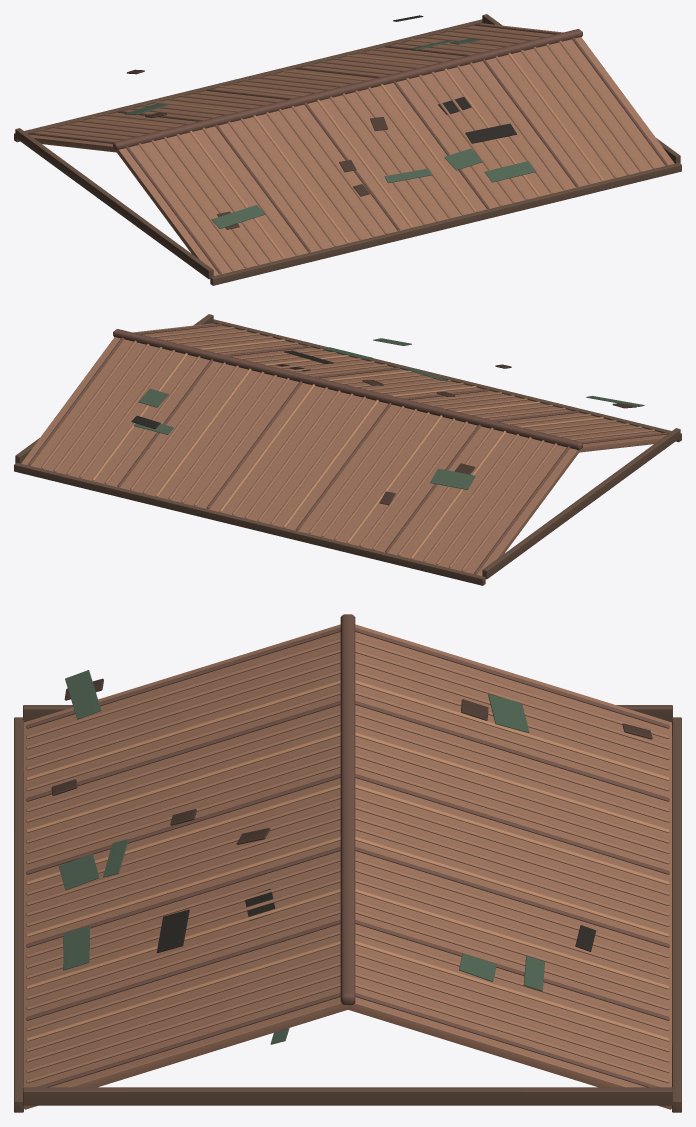
Rendered from roof_main_colonial_01.glb.
3 renders of one model, top to bottom at view 1: azimuth 30°, elevation 25°; view 2: azimuth 150°, elevation 25°; view 3: azimuth 270°, elevation 25°, orthographic. The views are drawn at different scales.
Visible parts, largest first — view 1: roof_main_colonial_01_front_roof_plane.001, roof_main_colonial_01_back_roof_plane.001, roof_main_colonial_01_front_eave_beam.001, roof_main_colonial_01_ridge_cap.001, roof_main_colonial_01_left_fascia.001, roof_main_colonial_01_back_eave_beam.001, roof_main_colonial_01_moss_damp_patch_07.001, roof_main_colonial_01_moss_damp_patch_11.001, roof_main_colonial_01_moss_damp_patch_17.001, roof_main_colonial_01_front_tile_channel_10.001, roof_main_colonial_01_front_tile_channel_29.001, roof_main_colonial_01_front_tile_channel_02.001 (+34 smaller); view 2: roof_main_colonial_01_back_roof_plane.001, roof_main_colonial_01_front_roof_plane.001, roof_main_colonial_01_back_eave_beam.001, roof_main_colonial_01_ridge_cap.001, roof_main_colonial_01_left_fascia.001, roof_main_colonial_01_front_eave_beam.001, roof_main_colonial_01_moss_damp_patch_02.001, roof_main_colonial_01_back_tile_channel_10.001, roof_main_colonial_01_back_tile_channel_02.001, roof_main_colonial_01_back_tile_channel_16.001, roof_main_colonial_01_back_tile_channel_18.001, roof_main_colonial_01_back_tile_channel_25.001 (+31 smaller); view 3: roof_main_colonial_01_back_roof_plane.001, roof_main_colonial_01_front_roof_plane.001, roof_main_colonial_01_right_fascia.001, roof_main_colonial_01_ridge_cap.001, roof_main_colonial_01_back_eave_beam.001, roof_main_colonial_01_front_eave_beam.001, roof_main_colonial_01_back_tile_channel_01.001, roof_main_colonial_01_front_tile_channel_03.001, roof_main_colonial_01_back_tile_channel_08.001, roof_main_colonial_01_back_tile_channel_11.001, roof_main_colonial_01_back_tile_channel_21.001, roof_main_colonial_01_back_tile_channel_31.001 (+72 smaller).
Part boxes in pixels (x1,y1,x2,y2): roof_main_colonial_01_front_roof_plane.001: (116,37,674,275); roof_main_colonial_01_back_roof_plane.001: (29,23,563,152); roof_main_colonial_01_front_eave_beam.001: (210,163,681,285); roof_main_colonial_01_ridge_cap.001: (113,29,582,150); roof_main_colonial_01_left_fascia.001: (15,128,213,279); roof_main_colonial_01_back_eave_beam.001: (14,19,482,142); roof_main_colonial_01_moss_damp_patch_07.001: (465,123,517,143); roof_main_colonial_01_moss_damp_patch_11.001: (211,205,265,228); roof_main_colonial_01_moss_damp_patch_17.001: (484,161,536,182); roof_main_colonial_01_front_tile_channel_10.001: (240,118,336,246); roof_main_colonial_01_front_tile_channel_29.001: (482,59,578,187); roof_main_colonial_01_front_tile_channel_02.001: (138,143,234,271); roof_main_colonial_01_back_roof_plane.001: (21,337,579,575); roof_main_colonial_01_front_roof_plane.001: (132,323,666,452); roof_main_colonial_01_back_eave_beam.001: (14,463,485,585); roof_main_colonial_01_ridge_cap.001: (113,329,582,450); roof_main_colonial_01_left_fascia.001: (482,428,680,579); roof_main_colonial_01_front_eave_beam.001: (213,319,681,442); roof_main_colonial_01_moss_damp_patch_02.001: (430,468,475,489); roof_main_colonial_01_back_tile_channel_10.001: (359,418,455,546); roof_main_colonial_01_back_tile_channel_02.001: (461,443,557,571); roof_main_colonial_01_back_tile_channel_16.001: (283,399,378,527); roof_main_colonial_01_back_tile_channel_18.001: (257,393,353,521); roof_main_colonial_01_back_tile_channel_25.001: (168,371,264,499); roof_main_colonial_01_back_roof_plane.001: (348,624,671,1109); roof_main_colonial_01_front_roof_plane.001: (24,624,347,1109); roof_main_colonial_01_right_fascia.001: (23,1087,672,1105); roof_main_colonial_01_ridge_cap.001: (340,614,355,1005); roof_main_colonial_01_back_eave_beam.001: (672,717,681,1112); roof_main_colonial_01_front_eave_beam.001: (14,717,23,1112); roof_main_colonial_01_back_tile_channel_01.001: (355,628,669,728); roof_main_colonial_01_front_tile_channel_03.001: (26,649,340,749); roof_main_colonial_01_back_tile_channel_08.001: (355,701,669,801); roof_main_colonial_01_back_tile_channel_11.001: (355,732,669,832); roof_main_colonial_01_back_tile_channel_21.001: (355,836,669,937); roof_main_colonial_01_back_tile_channel_31.001: (355,941,669,1041).
Bounding box in the file's own units: 11.12 × 1.57 × 8.12.
